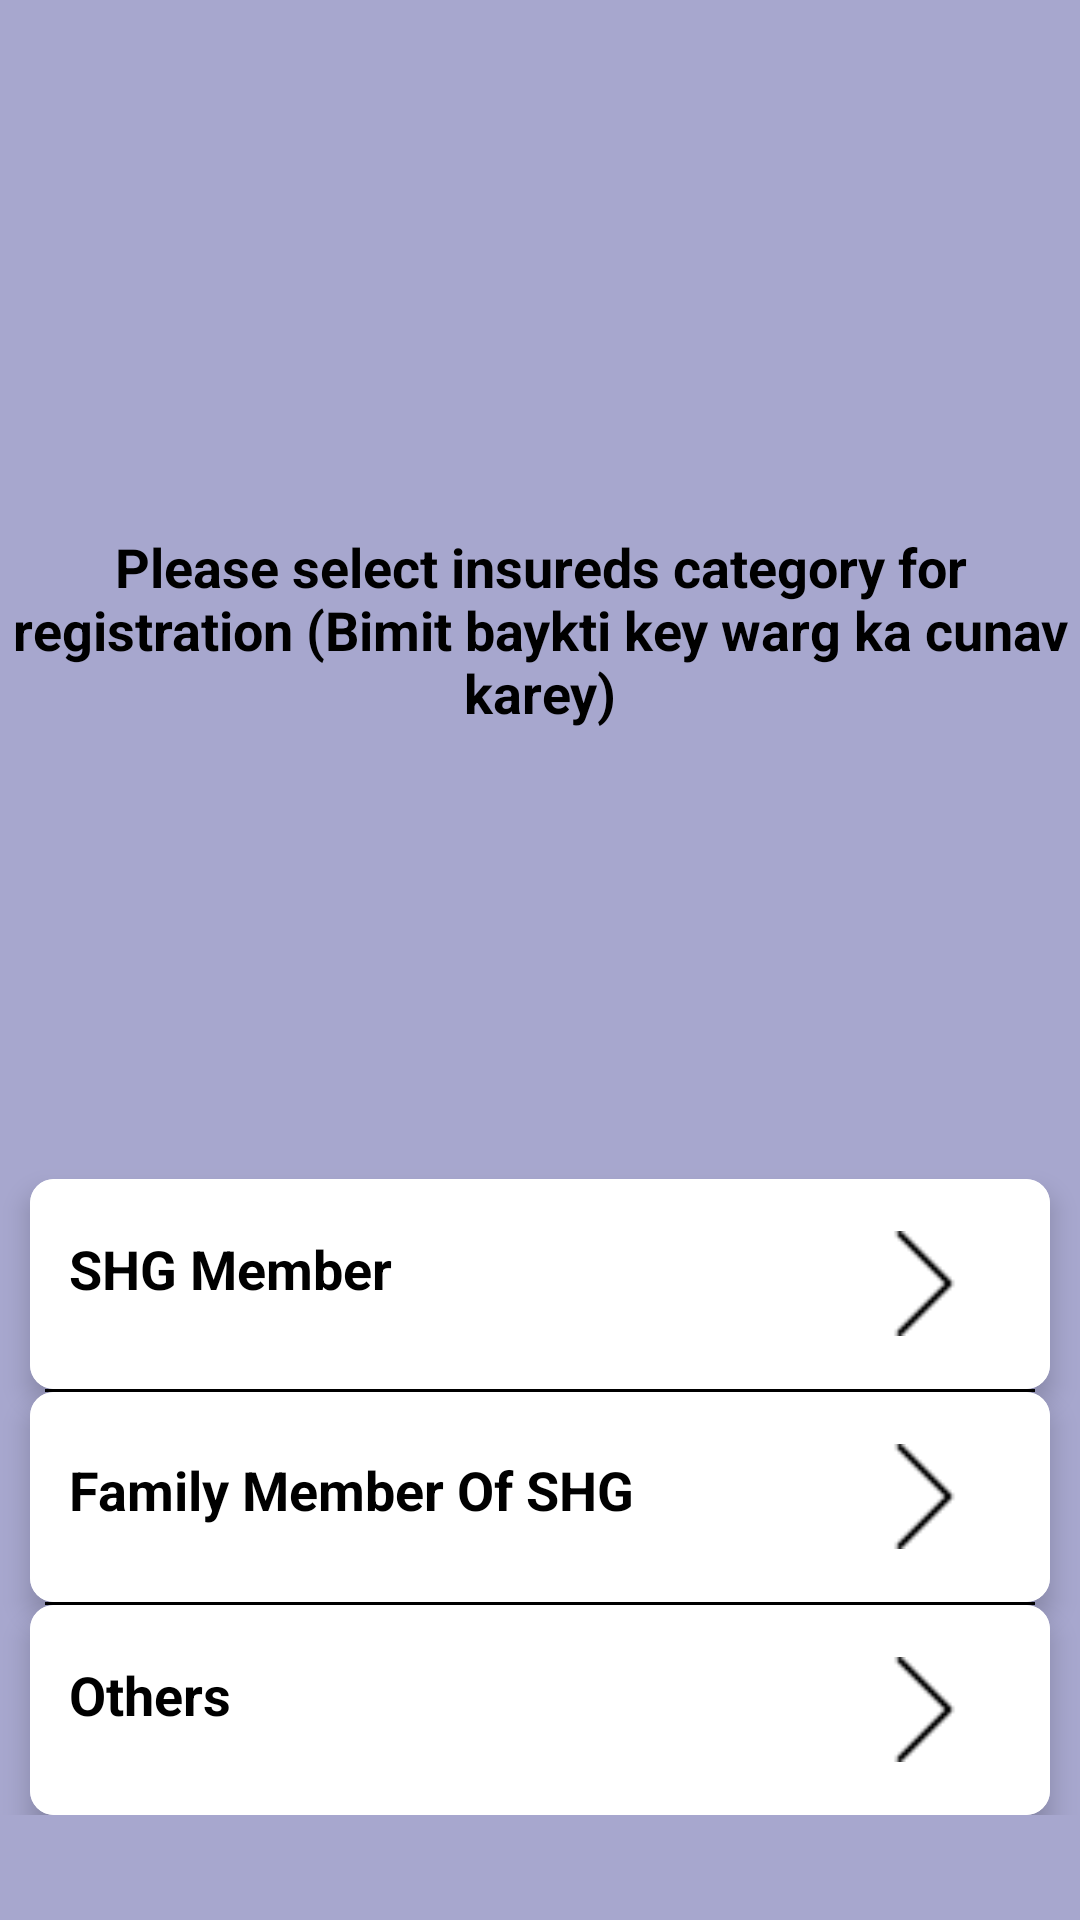

Icon bounding boxes for this 1080×1920 phone screenshot, format {"x1": x1, "y1": y1, "x2": x2, "y2": y2}:
right arrow: {"x1": 895, "y1": 1231, "x2": 954, "y2": 1336}, {"x1": 895, "y1": 1444, "x2": 954, "y2": 1549}, {"x1": 895, "y1": 1657, "x2": 954, "y2": 1762}
